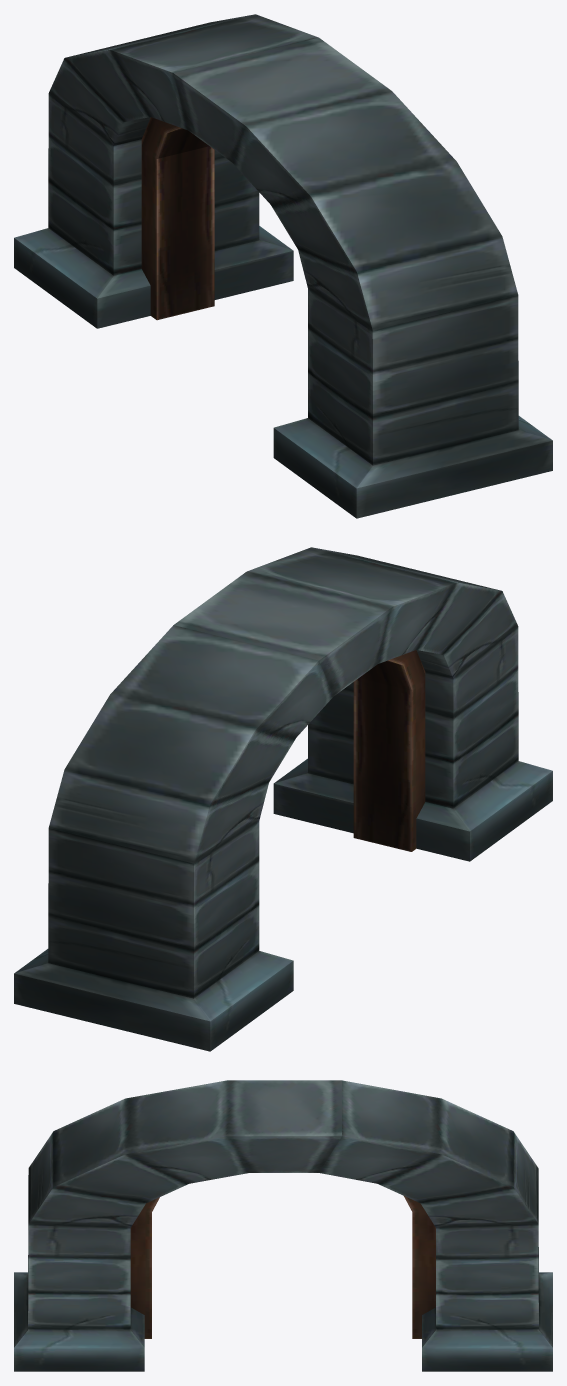
The model's file is prisonDoorStone.fbx.
3 views of the same model, one above another, from view 1: azimuth 30°, elevation 25°; view 2: azimuth 150°, elevation 25°; view 3: azimuth 270°, elevation 25° (orthographic). The views are drawn at different scales.
Visible parts, largest first — view 1: prisonDoorStone; view 2: prisonDoorStone; view 3: prisonDoorStone.
Part boxes in pixels (box(x1,y1,x2,y2)): prisonDoorStone: box(14, 14, 552, 518); prisonDoorStone: box(14, 547, 552, 1051); prisonDoorStone: box(14, 1080, 552, 1371).
Bounding box in the file's own units: 0.0694 × 0.0968 × 0.2098.
